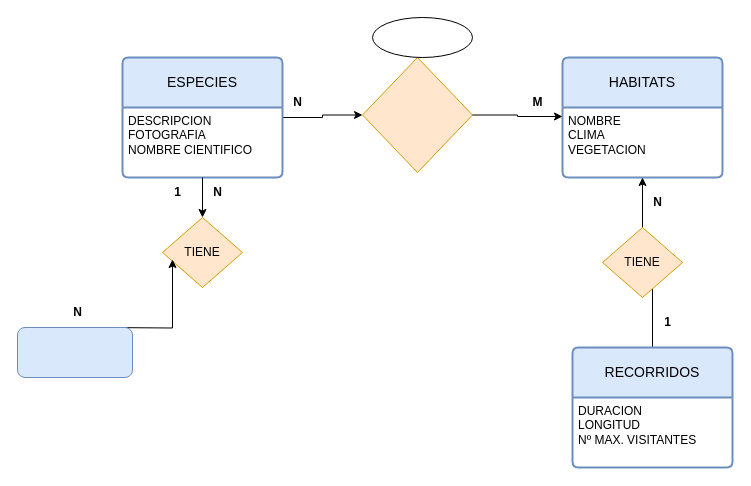
This 751x486 diagram has some shape labels left out. Here are the shapes that lost their labels. From the top down, the centre of each, then its label:
At point 422,37: "INDICE VULNERABILIDAD".
At point 417,114: "RIESGO EXTINCION".
At point 74,352: "NOMBRE COMUN".
